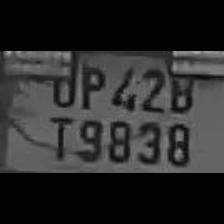2: (135, 61, 165, 111)
3: (132, 114, 162, 166)
4: (108, 59, 139, 109)
8: (162, 116, 192, 168), (104, 115, 134, 163)
9: (74, 113, 104, 163)
B: (166, 63, 196, 111)
P: (74, 58, 106, 110)
T: (42, 111, 72, 161)
U: (45, 56, 76, 107)
